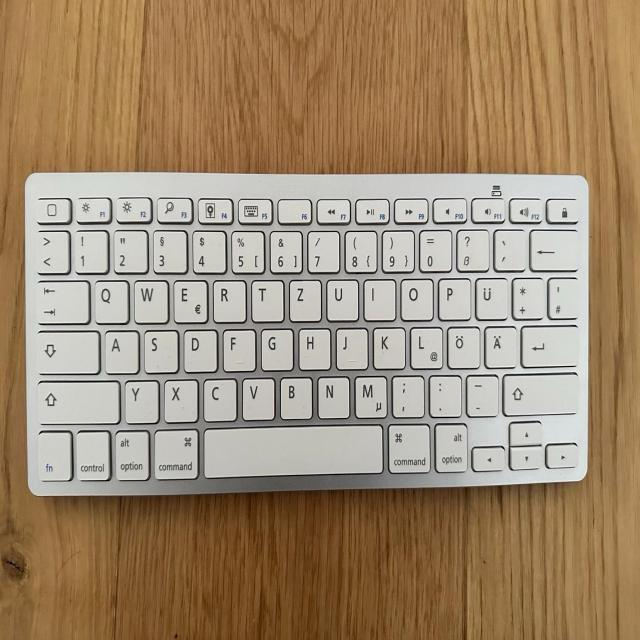0: (417, 226, 451, 271)
1: (73, 227, 108, 273)
2: (112, 227, 148, 273)
3: (151, 226, 187, 272)
4: (191, 226, 226, 272)
5: (229, 227, 264, 272)
6: (267, 227, 301, 272)
7: (306, 227, 339, 272)
8: (342, 227, 376, 272)
9: (379, 227, 414, 271)
a: (102, 327, 138, 372)
accent: (492, 225, 525, 269)
ae: (482, 323, 516, 366)
alt-left: (112, 426, 150, 480)
altgr-right: (432, 419, 468, 473)
b: (277, 373, 311, 418)
c: (201, 375, 236, 420)
comma: (389, 372, 423, 416)
d: (181, 325, 216, 371)
del: (528, 225, 579, 270)
e: (171, 277, 207, 322)
enter: (520, 322, 578, 365)
f: (220, 326, 254, 371)
g: (258, 325, 292, 369)
h: (296, 325, 329, 368)
hash: (547, 273, 578, 318)
i: (361, 275, 395, 319)
j: (333, 325, 367, 368)
k: (370, 323, 405, 368)
keyboard: (22, 165, 592, 499)
l: (408, 323, 442, 368)
less: (34, 227, 69, 272)
m: (351, 372, 387, 417)
minus: (464, 371, 498, 415)
n: (315, 372, 349, 417)
o: (398, 275, 433, 319)
oe: (444, 323, 479, 367)
p: (435, 275, 470, 318)
plus: (510, 273, 543, 318)
point: (426, 372, 461, 415)
q: (91, 277, 128, 322)
r: (211, 277, 246, 321)
s: (141, 326, 178, 372)
shift-left: (35, 376, 120, 423)
shift-lock: (34, 326, 99, 372)
shift-right: (501, 369, 578, 414)
space: (202, 421, 383, 476)
ss: (454, 226, 488, 270)
strg-left: (74, 427, 111, 480)
t: (249, 276, 283, 320)
tab: (34, 276, 89, 322)
u: (325, 276, 358, 320)
ue: (473, 274, 507, 318)
v: (239, 374, 274, 419)
w: (131, 276, 168, 322)
x: (161, 375, 198, 421)
y: (122, 376, 158, 422)
z: (286, 276, 321, 321)
